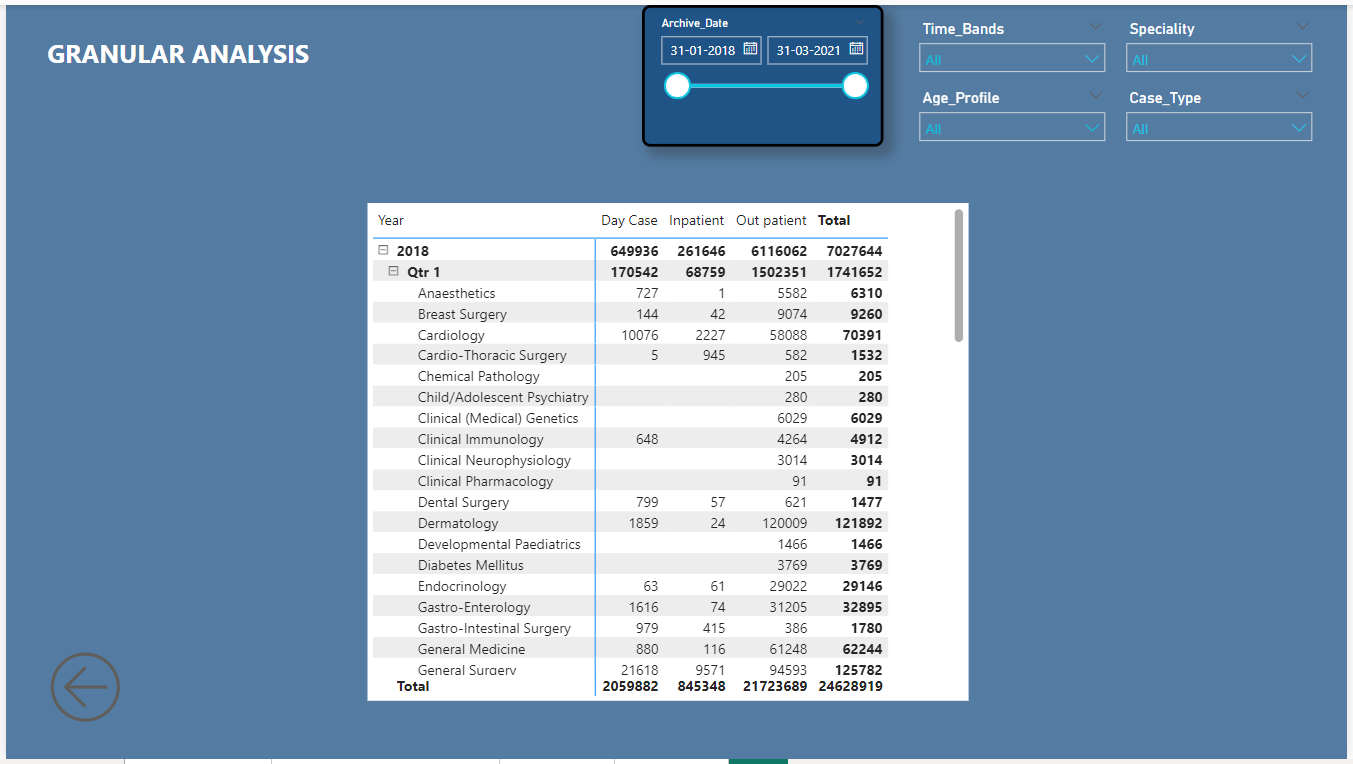

The page's visual inventory and layout, read from the dashboard file:
{"tool":"powerbi","page":{"name":"GRAULAR ANALYSIS","canvas":[1280,720],"ordinal":1},"visuals":[{"type":"slicer","fields":{"Values":["All Data.Case_Type"]},"box":[1059.3,74.8,197.2,77.9],"z":0},{"type":"slicer","fields":{"Values":["All Data.Archive_Date"]},"box":[607.6,0,230.6,135.2],"z":1000},{"type":"slicer","fields":{"Values":["All Data.Speciality"]},"box":[1059.3,8,197.2,82.7],"z":2000},{"type":"slicer","fields":{"Values":["All Data.Time_Bands"]},"box":[862.1,8,197.2,82.7],"z":3000},{"type":"slicer","fields":{"Values":["All Data.Age_Profile"]},"box":[862.1,74.8,197.2,82.7],"z":4000},{"type":"pivotTable","fields":{"Rows":["All Data.Archive_Date.Variation.Date Hierarchy.Year","All Data.Archive_Date.Variation.Date Hierarchy.Quarter","All Data.Speciality"],"Columns":["All Data.Case_Type"],"Values":["Sum(All Data.Total)"]},"box":[345.2,189.3,574.2,475.6],"z":5000},{"type":"textbox","box":[35,23.9,299,50.9],"z":6000},{"type":"actionButton","box":[35,607.6,82.7,87.5],"z":7000}]}

Visuals, with their boxes in screenshot pixels (x1, y1, x2, y2), scaled from the page's 1280x720 canvas onto the 1353x764 screenshot:
slicer - All Data.Case_Type: 1120/79/1328/162
slicer - All Data.Archive_Date: 642/0/886/143
slicer - All Data.Speciality: 1120/8/1328/96
slicer - All Data.Time_Bands: 911/8/1120/96
slicer - All Data.Age_Profile: 911/79/1120/167
pivotTable - All Data.Archive_Date.Variation.Date Hierarchy.Year x All Data.Archive_Date.Variation.Date Hierarchy.Quarter: 365/201/972/706
textbox: 37/25/353/79
actionButton: 37/645/124/738
